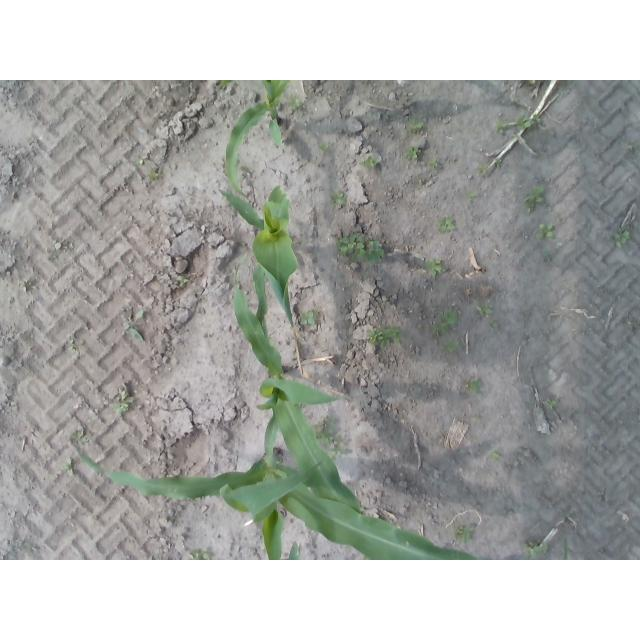Maize: (67, 444, 482, 561), (232, 264, 364, 511), (218, 186, 299, 339), (216, 80, 290, 196), (289, 541, 300, 560)
Weeds: (121, 308, 147, 342), (340, 235, 364, 258), (364, 243, 384, 264), (430, 319, 451, 334), (454, 524, 472, 541), (71, 428, 90, 444), (118, 384, 134, 403), (427, 258, 444, 275), (61, 458, 76, 477), (525, 193, 544, 208), (614, 230, 630, 247), (366, 328, 382, 343), (441, 218, 456, 234), (47, 242, 61, 259), (299, 311, 316, 325), (517, 115, 532, 130), (384, 326, 402, 338), (115, 399, 129, 414), (539, 223, 554, 237), (289, 96, 301, 113), (527, 543, 541, 557), (408, 120, 423, 133), (466, 382, 480, 395), (332, 188, 344, 202), (189, 553, 212, 560), (444, 310, 456, 322), (178, 276, 190, 288), (322, 430, 334, 442), (135, 155, 148, 166), (477, 306, 491, 316), (407, 147, 418, 158), (495, 122, 506, 133), (365, 156, 375, 167), (149, 171, 159, 181), (452, 341, 461, 352), (68, 340, 76, 352), (547, 398, 557, 407), (494, 158, 502, 167), (323, 415, 330, 425), (430, 158, 438, 166), (443, 342, 450, 351), (332, 451, 341, 458), (492, 453, 500, 460), (320, 144, 328, 151), (479, 166, 486, 174), (466, 191, 474, 198), (543, 252, 550, 259), (491, 321, 498, 328)
